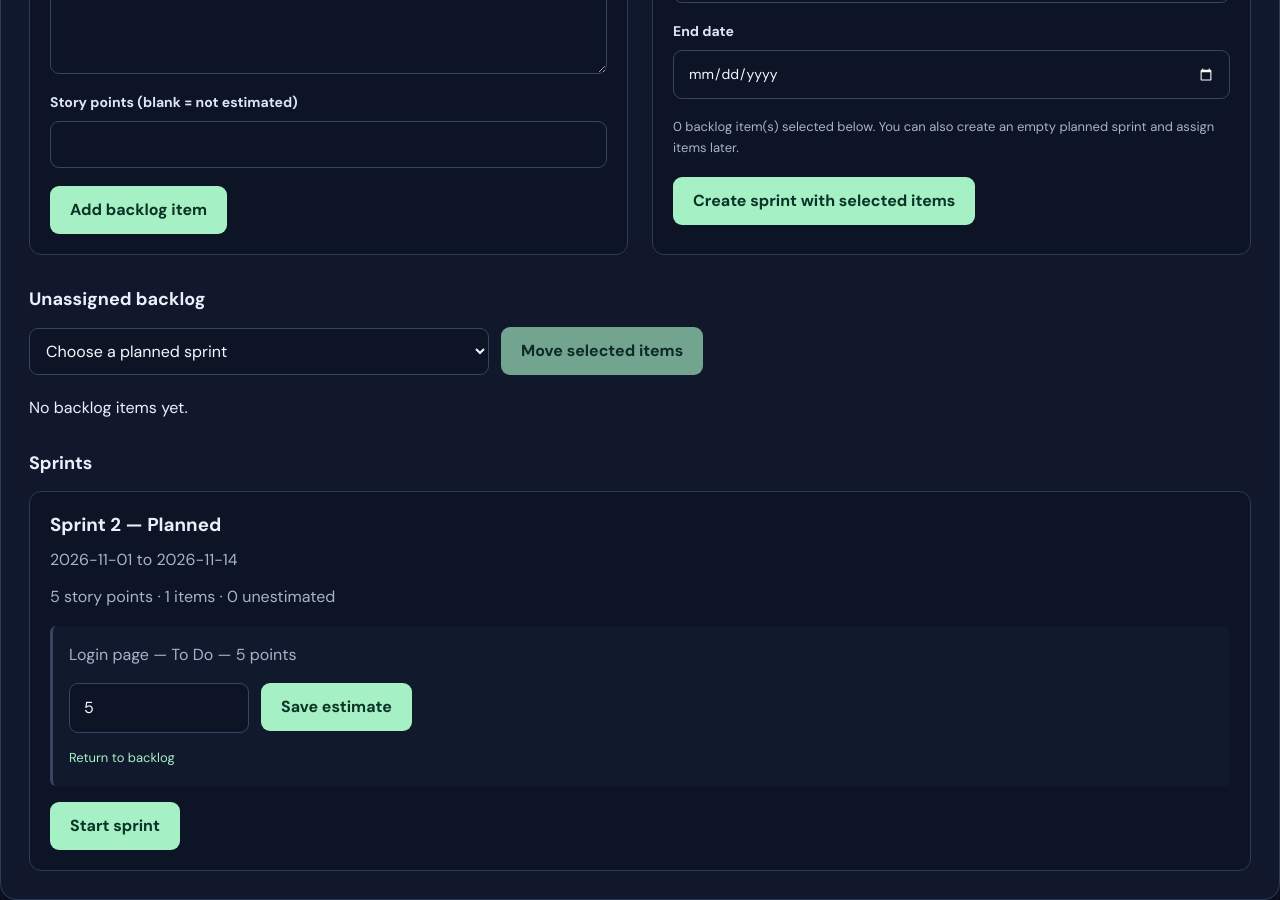
Test: starting a sprint refreshes status and removes planning controls for that sprint
(page scrolled)
Click the button "Start sprint": {"x": 115, "y": 826} [50,802,180,850]
(page scrolled)
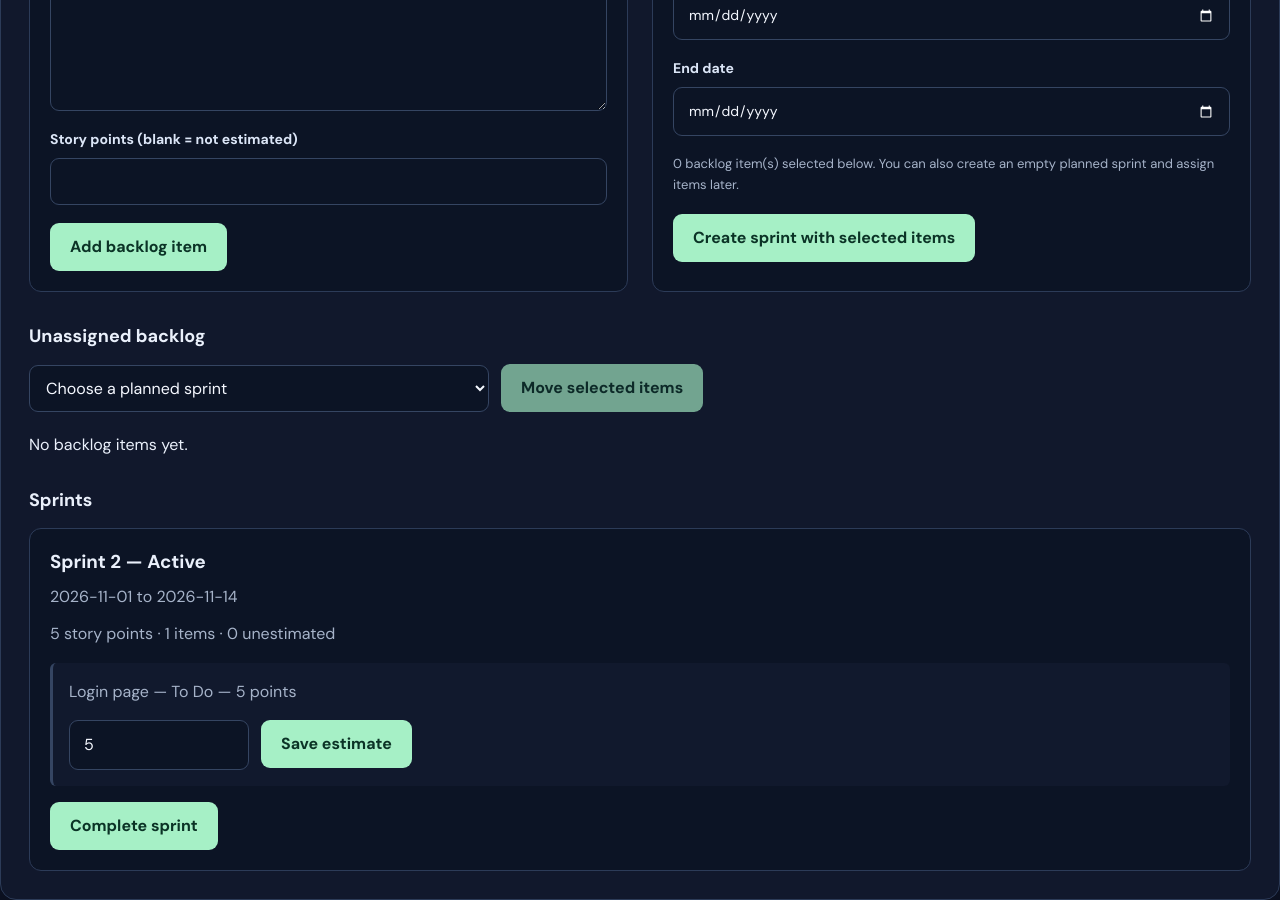
Expected: the heading "Sprint 2 — Active" is shown, [50,549,206,574]
Expected: the button "Return to backlog" is gone
Expected: the button "Start sprint" is gone
